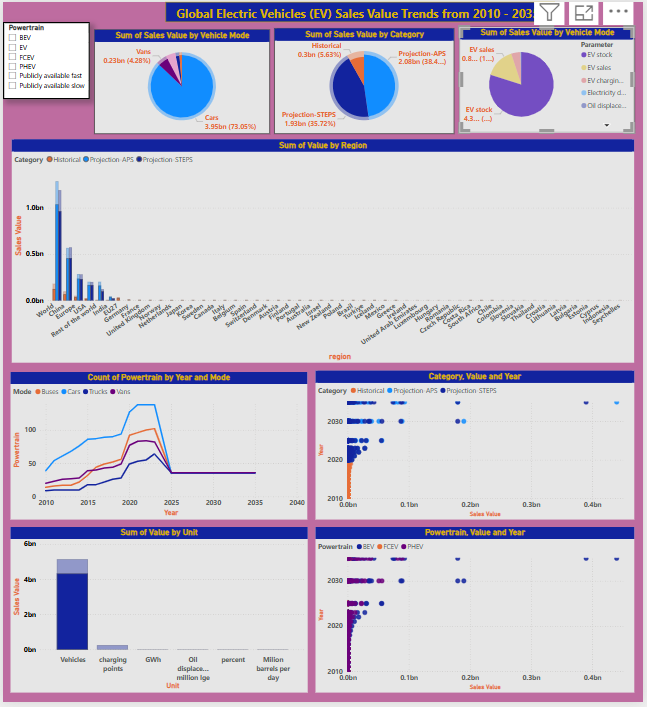

Layout of this report page (visuals, bound fields, positions):
{"tool":"powerbi","page":{"name":"EV Global Sales (2010-2035)","canvas":[1280,1400],"ordinal":0},"visuals":[{"type":"slicer","fields":{"Values":["cleaned.powertrain"]},"box":[0,40.4,173.6,154.1],"z":0},{"type":"pieChart","title":"Sum of Sales Value by Vehicle Mode","fields":{"Category":["cleaned.mode"],"Y":["Sum(cleaned.value)"]},"box":[182.5,53.8,351.2,208.8],"z":1000},{"type":"pieChart","title":"Sum of Sales Value by Category","fields":{"Y":["Sum(cleaned.value)"],"Category":["cleaned.category"]},"box":[542.5,51.2,360,211.2],"z":2000},{"type":"pieChart","title":"Sum of Sales Value by Vehicle Mode","fields":{"Y":["Sum(cleaned.value)"],"Category":["cleaned.parameter"]},"box":[912.2,51.1,351.1,211.1],"z":3000},{"type":"lineChart","title":"Count of Powertrain by Year and Mode","fields":{"Category":["cleaned.year"],"Y":["CountNonNull(cleaned.powertrain)"],"Series":["cleaned.mode"]},"box":[15,740,593.8,295],"z":4000},{"type":"clusteredColumnChart","title":"Sum of Value by Unit","fields":{"Y":["Sum(cleaned.value)"],"Category":["cleaned.unit"]},"box":[14.4,1048.9,594.4,331.1],"z":5000},{"type":"scatterChart","title":"Category, Value and Year","fields":{"X":["cleaned.value"],"Y":["cleaned.year"],"Series":["cleaned.category"]},"box":[625.6,737.8,637.8,297.8],"z":6000},{"type":"textbox","box":[324.1,0,777.7,40.4],"z":7000},{"type":"scatterChart","title":"Powertrain, Value and Year","fields":{"X":["cleaned.value"],"Y":["cleaned.year"],"Series":["cleaned.powertrain"]},"box":[625.6,1048.9,637.8,331.1],"z":8000},{"type":"clusteredColumnChart","title":"Sum of Value by Region","fields":{"Y":["Sum(cleaned.value)"],"Category":["cleaned.region"],"Series":["cleaned.category"]},"box":[17.5,275,1245,446.2],"z":9000}]}

Visuals, with their boxes in screenshot pixels (x1, y1, x2, y2), scaled from the page's 1280x1400 canvas onto the 647x707 screenshot:
slicer - cleaned.powertrain: {"left": 0, "top": 20, "right": 88, "bottom": 98}
"Sum of Sales Value by Vehicle Mode" pieChart: {"left": 92, "top": 27, "right": 270, "bottom": 133}
"Sum of Sales Value by Category" pieChart: {"left": 274, "top": 26, "right": 456, "bottom": 133}
"Sum of Sales Value by Vehicle Mode" pieChart: {"left": 461, "top": 26, "right": 639, "bottom": 132}
"Count of Powertrain by Year and Mode" lineChart: {"left": 8, "top": 374, "right": 308, "bottom": 523}
"Sum of Value by Unit" clusteredColumnChart: {"left": 7, "top": 530, "right": 308, "bottom": 697}
"Category, Value and Year" scatterChart: {"left": 316, "top": 373, "right": 639, "bottom": 523}
textbox: {"left": 164, "top": 0, "right": 557, "bottom": 20}
"Powertrain, Value and Year" scatterChart: {"left": 316, "top": 530, "right": 639, "bottom": 697}
"Sum of Value by Region" clusteredColumnChart: {"left": 9, "top": 139, "right": 638, "bottom": 364}
